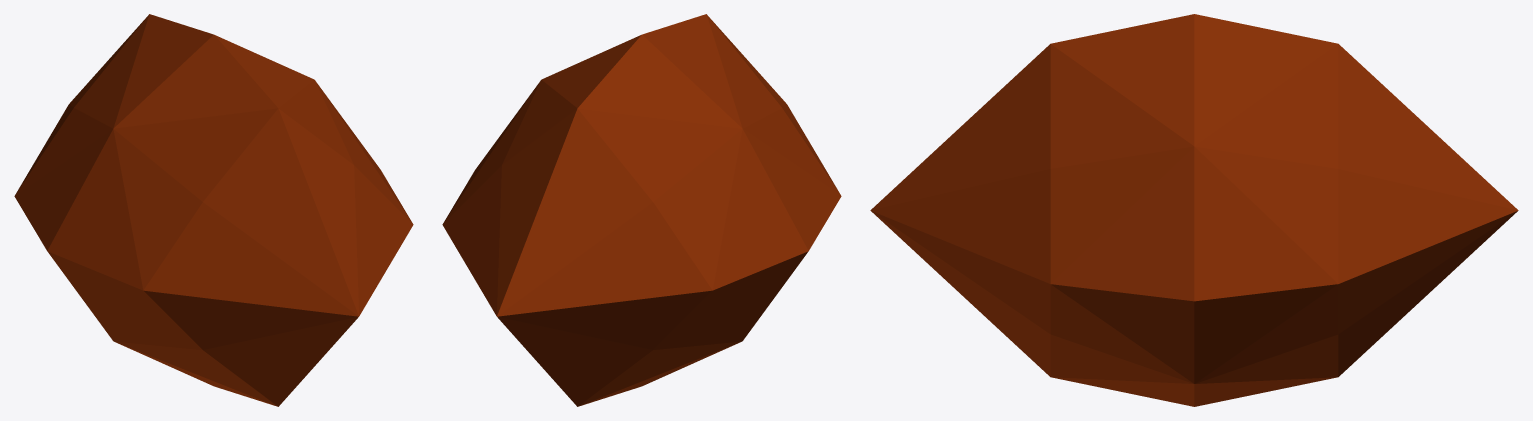
Rendered from CrystalOrange.obj.
3 renders of one model, left to right at view 1: azimuth 30°, elevation 25°; view 2: azimuth 150°, elevation 25°; view 3: azimuth 270°, elevation 25°, orthographic. The views are drawn at different scales.
Visible parts, largest first — view 1: CrystalOrange; view 2: CrystalOrange; view 3: CrystalOrange.
Boxes of the visible parts, left/top/right/bottom form: CrystalOrange: left=14, top=14, right=413, bottom=406; CrystalOrange: left=442, top=14, right=841, bottom=406; CrystalOrange: left=870, top=14, right=1518, bottom=406.
Size of the model in its own units: 0.8962 by 0.9034 by 1.35.
